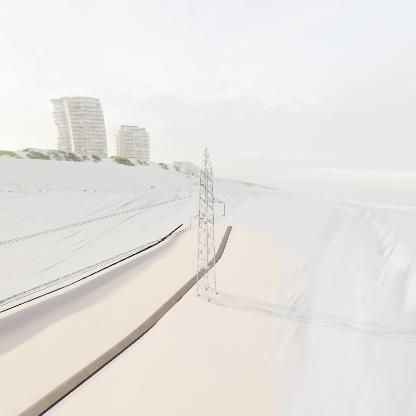tower: (186, 146, 227, 307)
